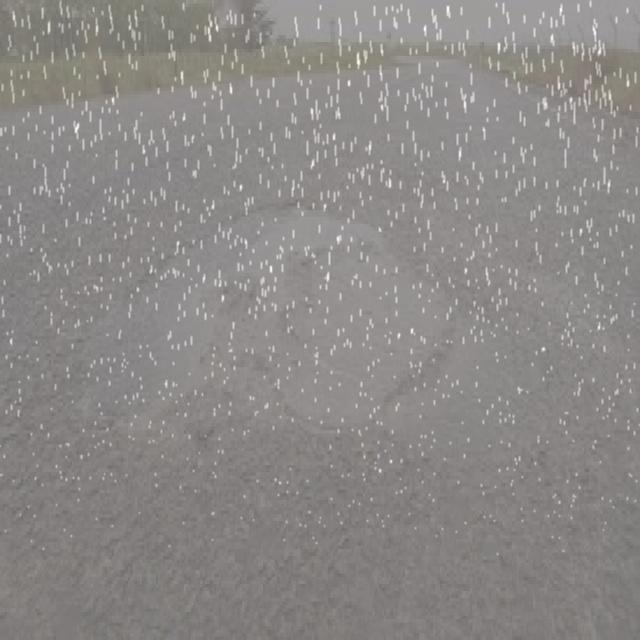Pothole: (98, 191, 538, 512)
